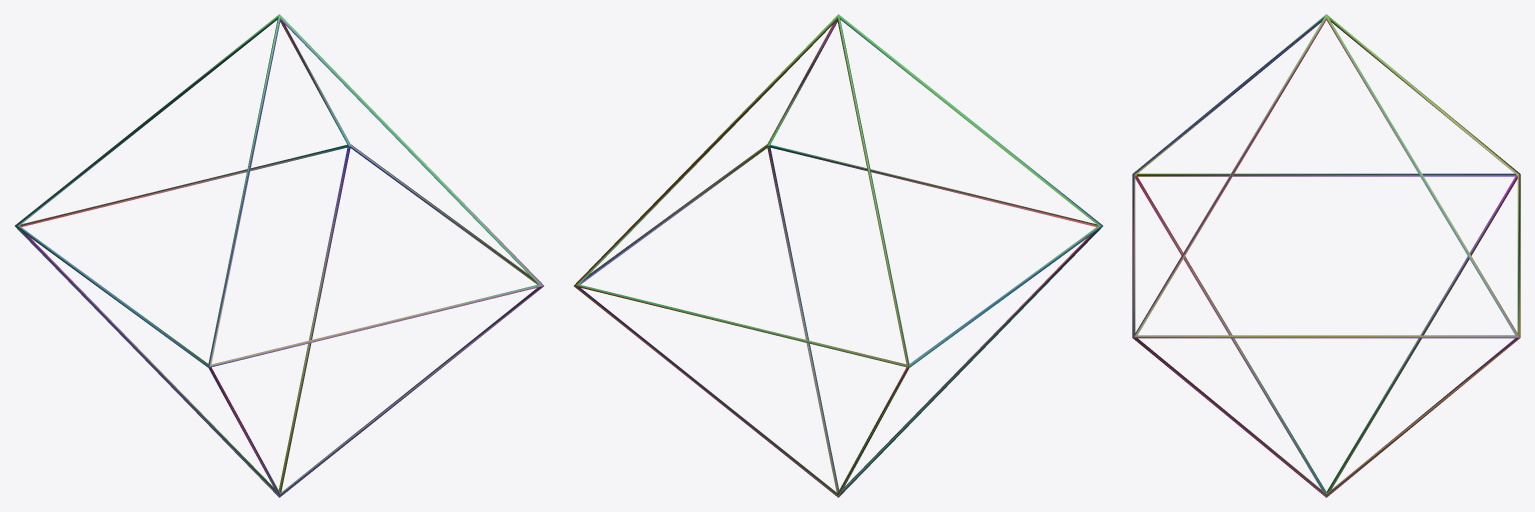
The model's file is zeometry-wireframes-wire-octahedron_v6.glb.
3 renders of one model, left to right at view 1: azimuth 30°, elevation 25°; view 2: azimuth 150°, elevation 25°; view 3: azimuth 270°, elevation 25°, orthographic.
Visible parts, largest first — view 1: Wire Octahedron_v6; view 2: Wire Octahedron_v6; view 3: Wire Octahedron_v6.
Part boxes in pixels (bbox=[...]): Wire Octahedron_v6: bbox=[15, 14, 543, 497]; Wire Octahedron_v6: bbox=[574, 14, 1102, 497]; Wire Octahedron_v6: bbox=[1132, 14, 1520, 497].
Size of the model in its own units: 0.3634 by 0.5 by 0.3634.
